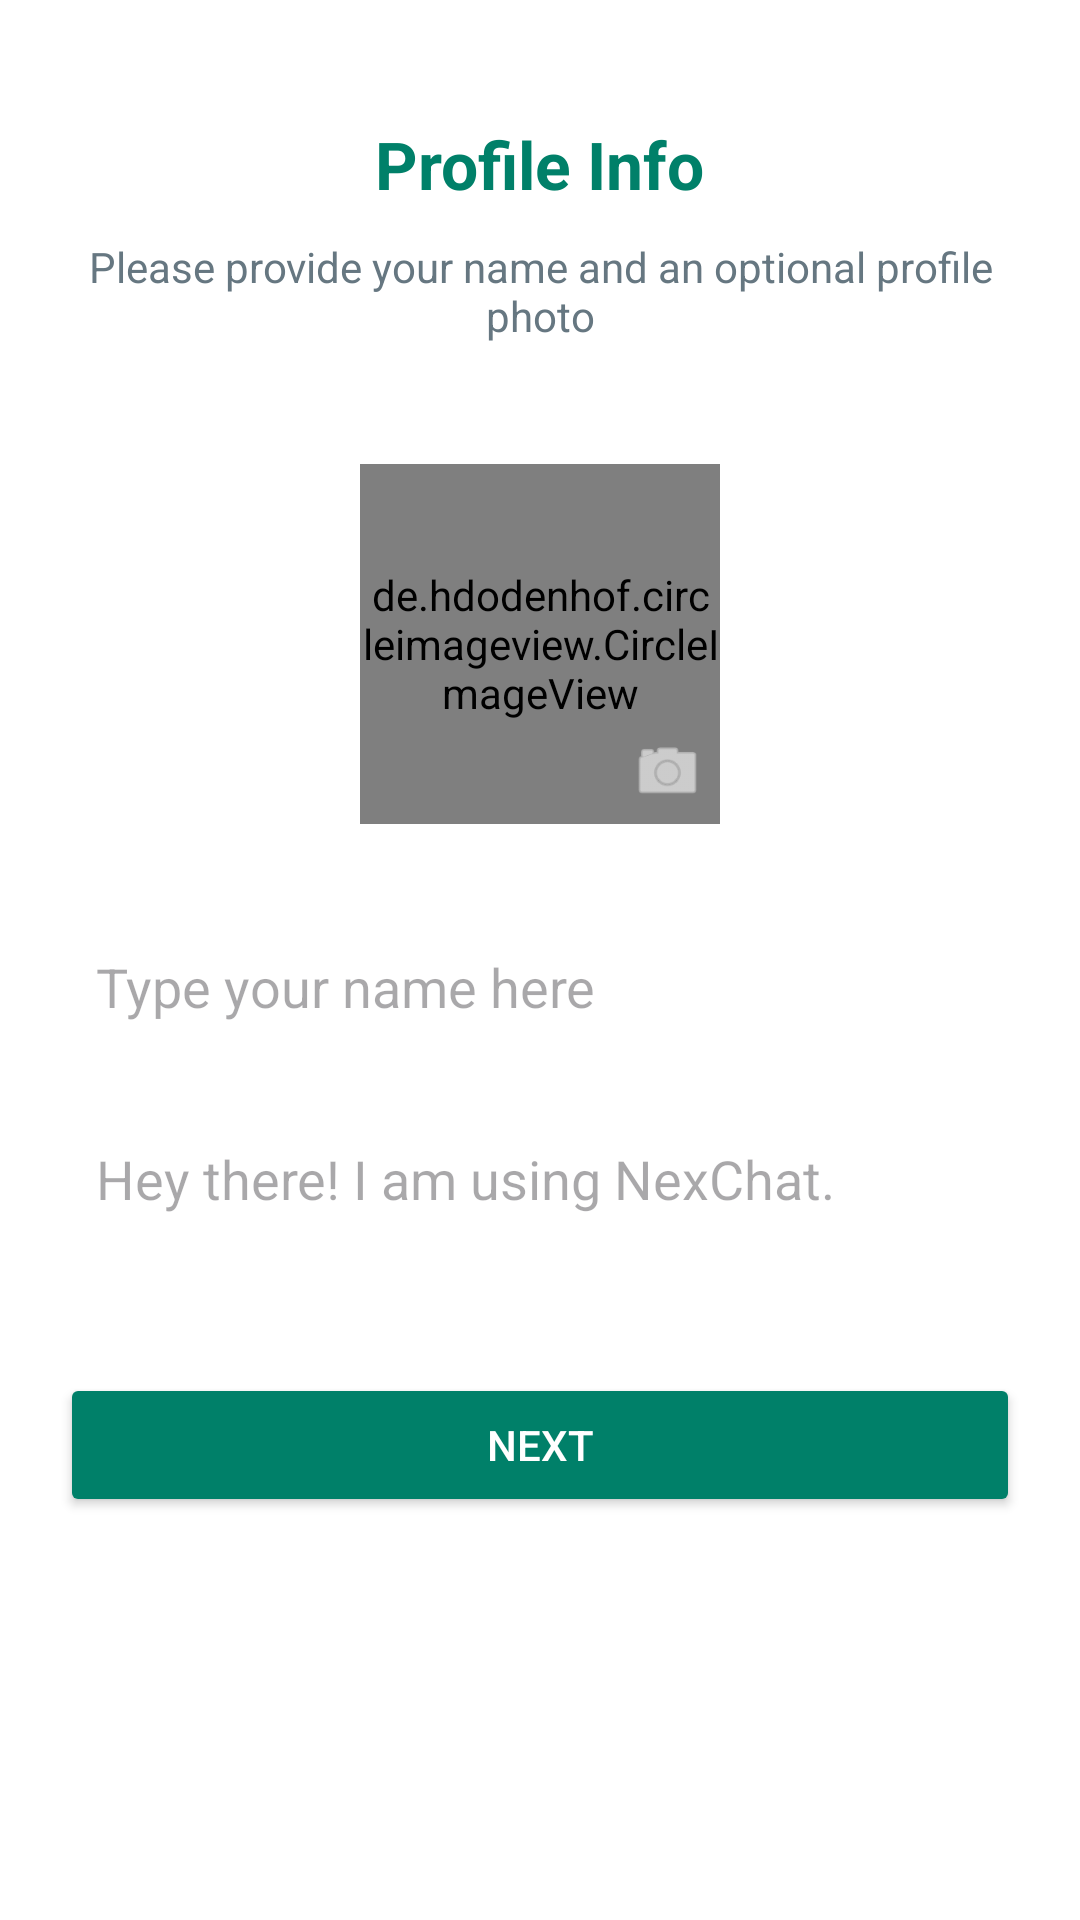

Named icons in this screenshot (1080px×1920px) and their bounding boxes, bbox=(x1, y1, x2, y2):
camera: bbox=(639, 747, 696, 793)
